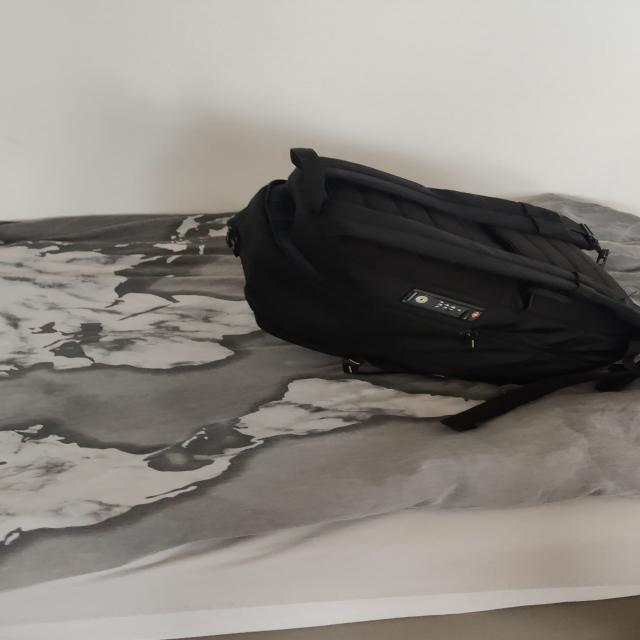backpack: (211, 139, 639, 405)
